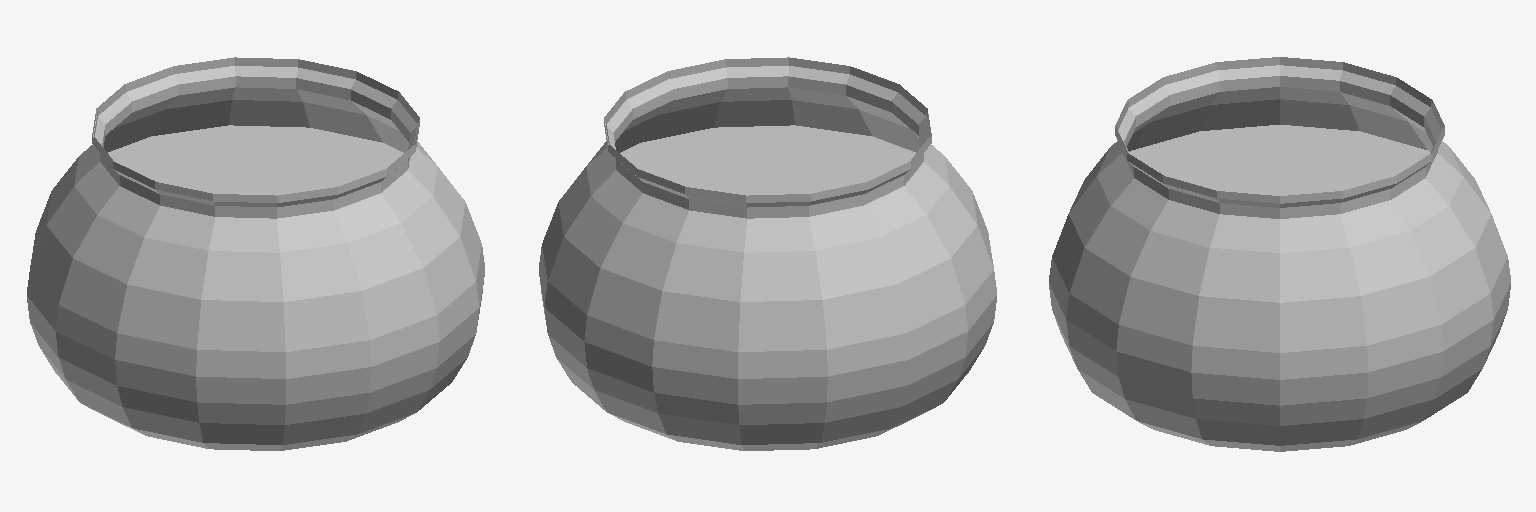
File: cauldron.obj
3 views of the same model, side by side, from view 1: azimuth 30°, elevation 25°; view 2: azimuth 150°, elevation 25°; view 3: azimuth 270°, elevation 25° (orthographic).
Visible parts, largest first — view 1: cauldron_Circle, liquid_Circle.001; view 2: cauldron_Circle, liquid_Circle.001; view 3: cauldron_Circle, liquid_Circle.001.
Boxes of the visible parts, x1=… form: cauldron_Circle: x1=27, y1=57, x2=484, y2=450; liquid_Circle.001: x1=108, y1=125, x2=403, y2=195; cauldron_Circle: x1=539, y1=57, x2=996, y2=450; liquid_Circle.001: x1=620, y1=125, x2=915, y2=195; cauldron_Circle: x1=1049, y1=57, x2=1510, y2=451; liquid_Circle.001: x1=1129, y1=125, x2=1430, y2=195.
Size of the model in its own units: 2.03 by 1.25 by 2.03.